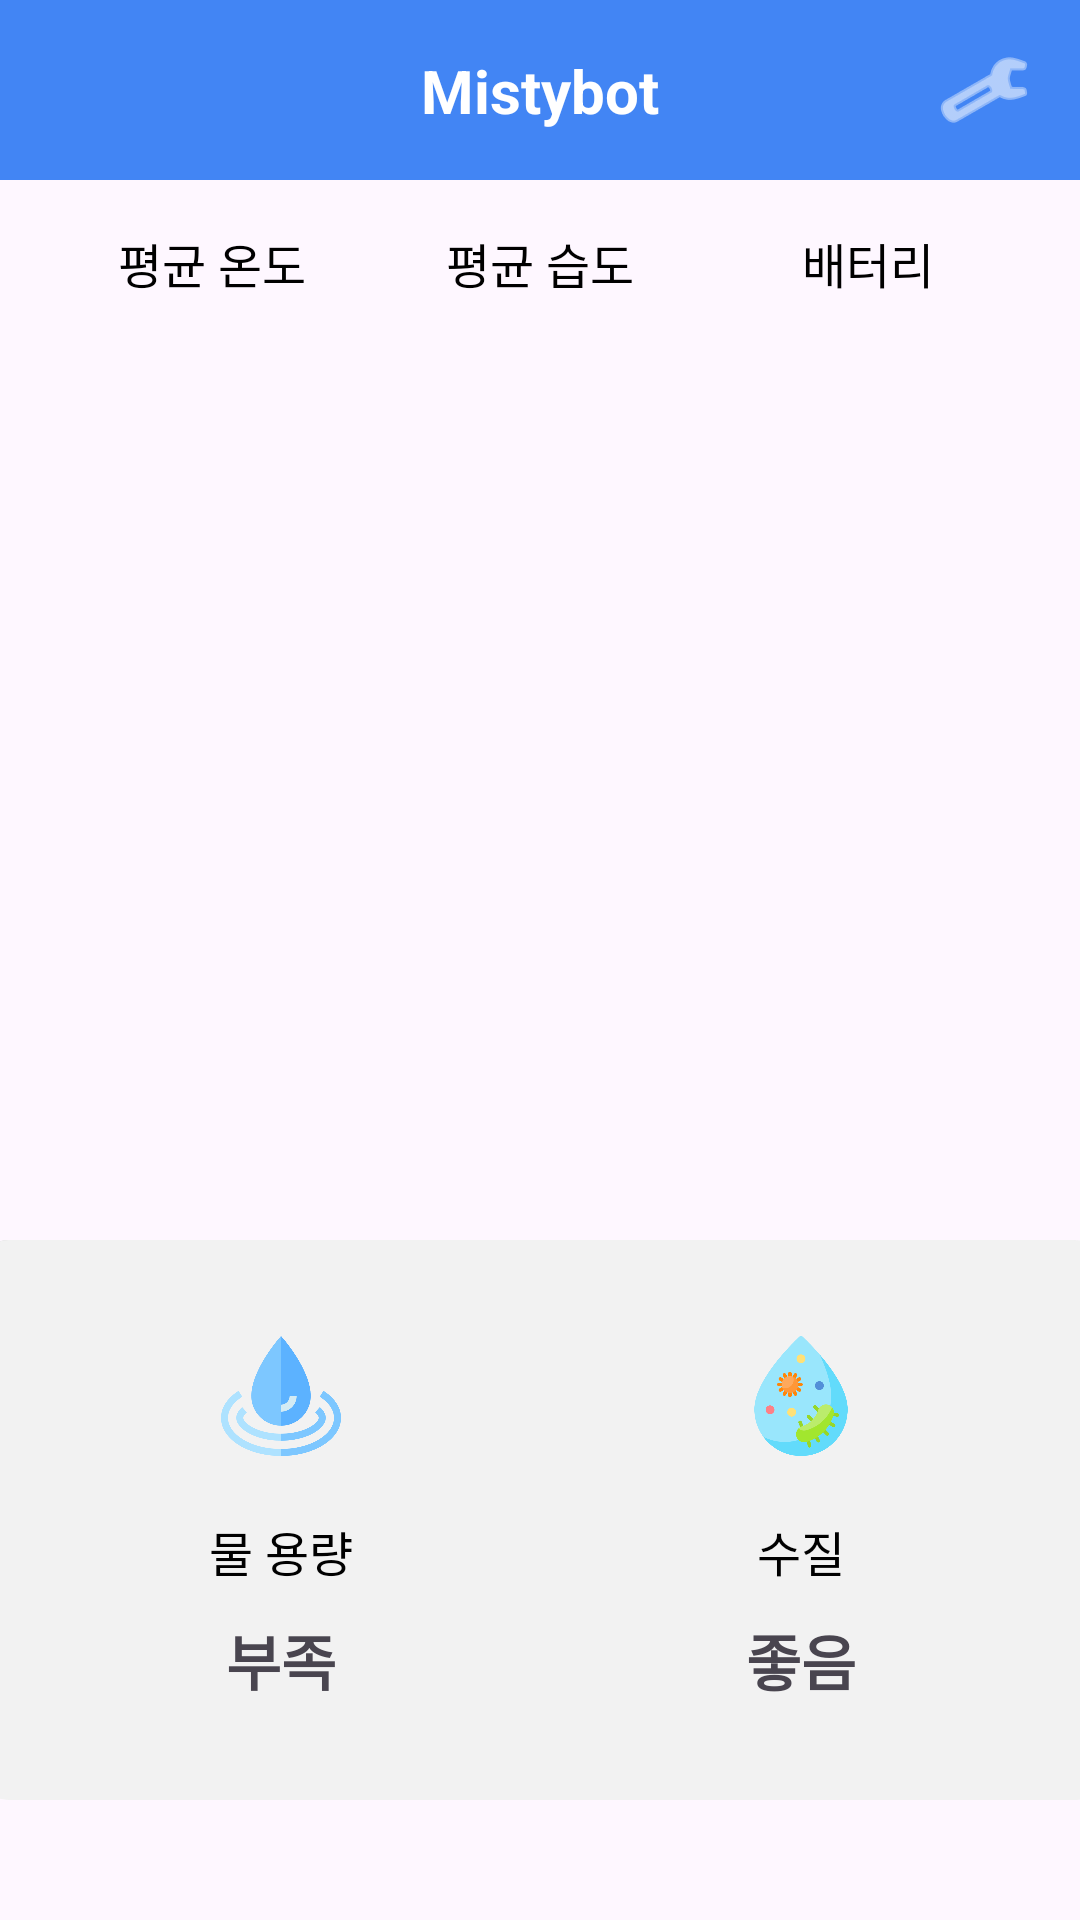

Screen size 1080 × 1920. Icon name, then its center in pixels as [x,y]:
manage: [984,90]
waterimg: [281,1396]
waterwarning: [801,1396]
